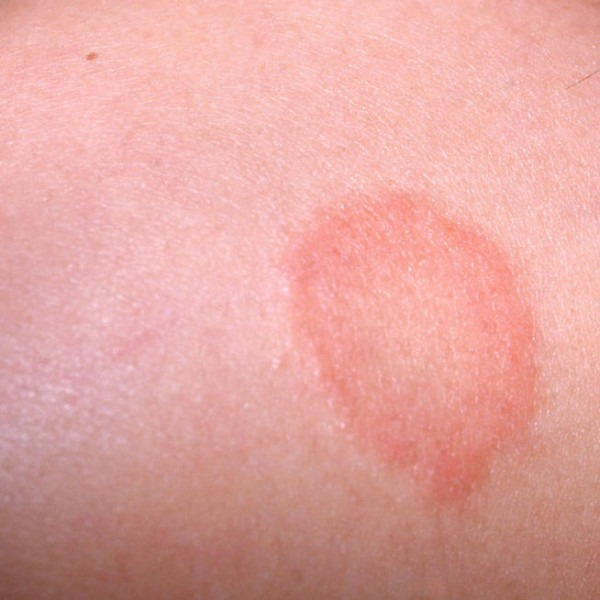Ringworm: (275, 180, 553, 532)
